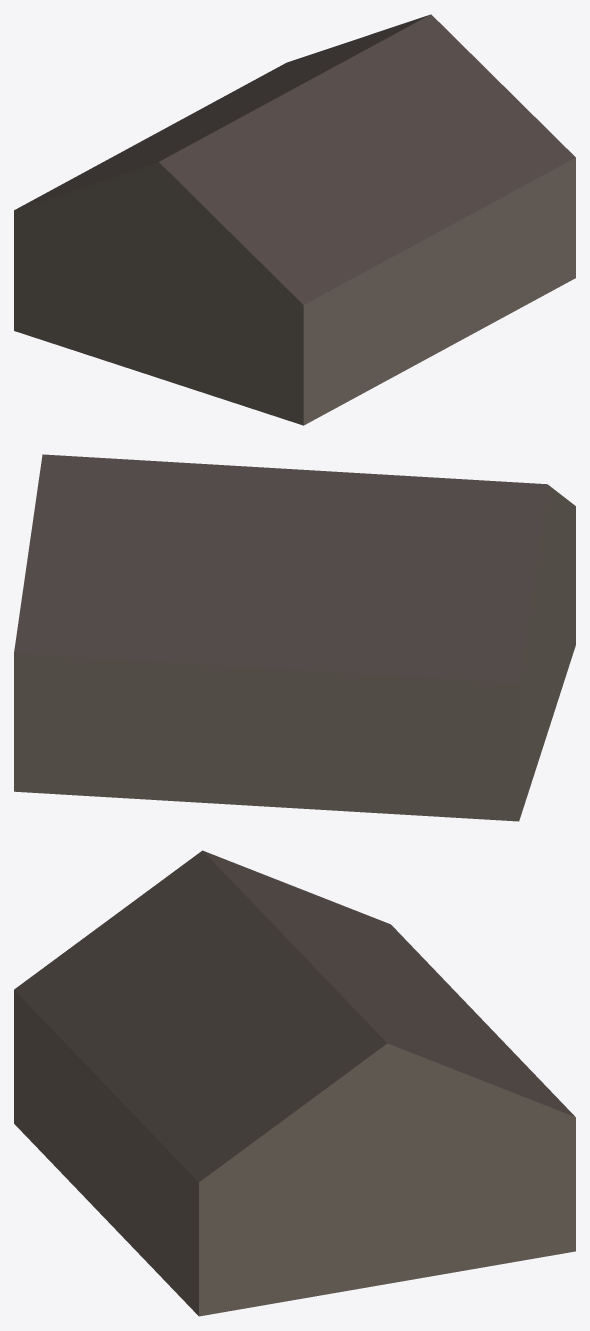
The picture shows the model from 3 angles, top to bottom: view 1: azimuth 30°, elevation 25°; view 2: azimuth 150°, elevation 25°; view 3: azimuth 270°, elevation 25°; orthographic projection. The views are drawn at different scales.
Parts seen in each view (by area): view 1: HP-w859457341; view 2: HP-w859457341; view 3: HP-w859457341.
Boxes of the visible parts, left/top/right/bottom form: HP-w859457341: left=14, top=14, right=575, bottom=425; HP-w859457341: left=14, top=454, right=575, bottom=821; HP-w859457341: left=14, top=850, right=575, bottom=1316.
Size of the model in its own units: 24.78 by 10.77 by 22.81.
